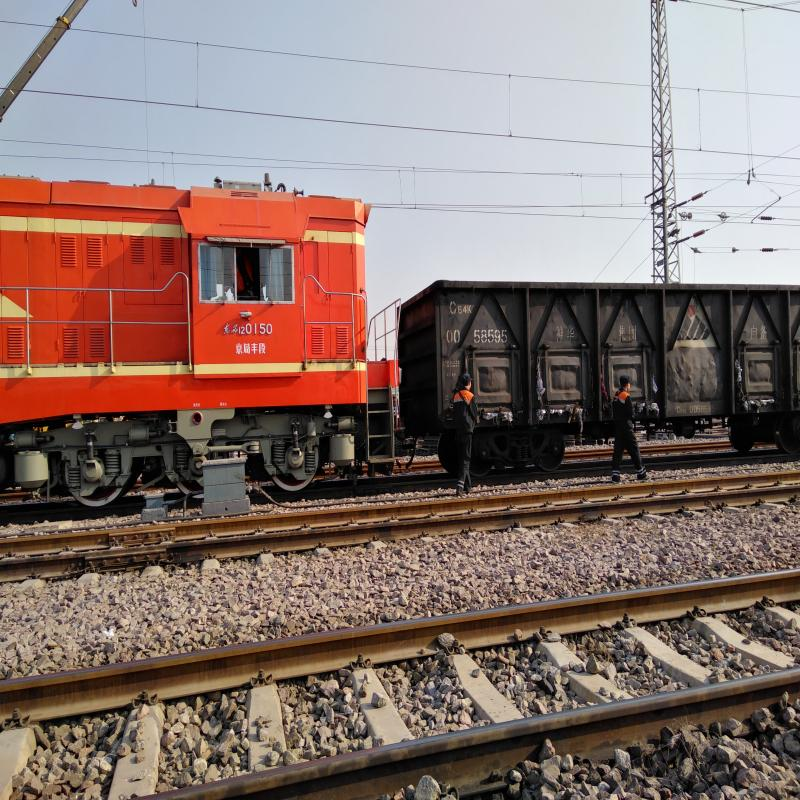train: (2, 177, 400, 491), (417, 273, 799, 455)
